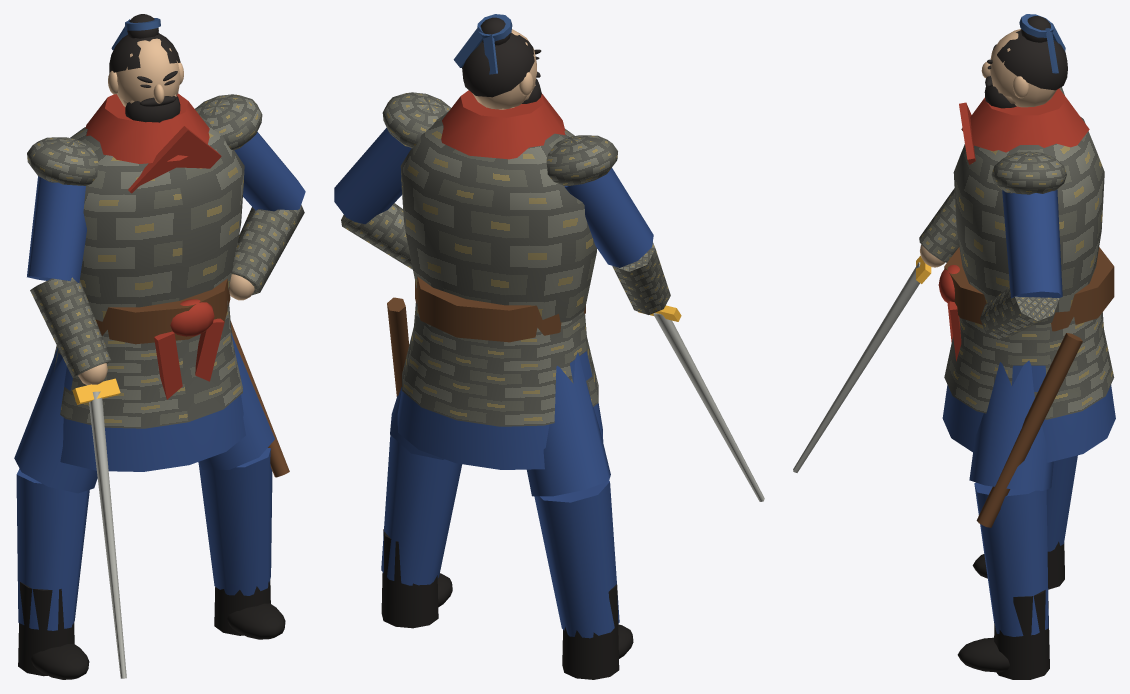
Rendered from zilu.glb.
The picture shows the model from 3 angles, left to right: view 1: azimuth 30°, elevation 25°; view 2: azimuth 150°, elevation 25°; view 3: azimuth 270°, elevation 25°; orthographic projection. The views are drawn at different scales.
Parts seen in each view (by area): view 1: Zilu; view 2: Zilu; view 3: Zilu.
Boxes of the visible parts, box(x1,y1,x2,y2) form: Zilu: box(14, 14, 305, 679); Zilu: box(334, 14, 764, 679); Zilu: box(793, 14, 1115, 679).
Size of the model in its own units: 0.9008 by 1.77 by 0.8551.
10 materials, 1 textured.
